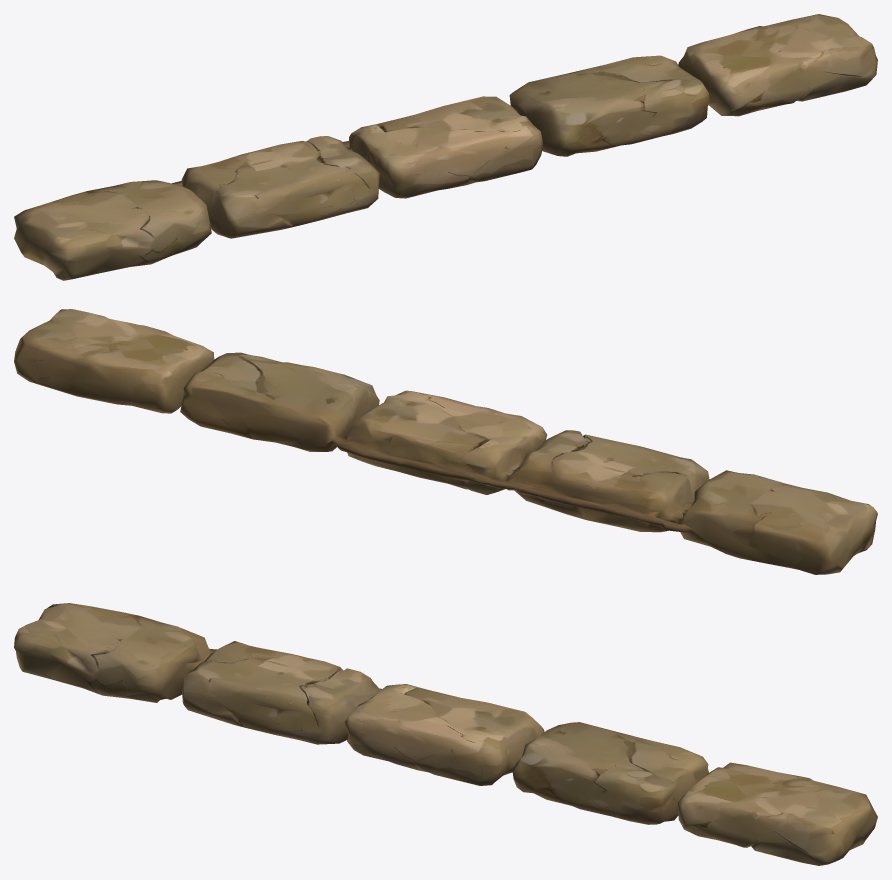
The model's file is tripo_stone_road_curb.glb.
The picture shows the model from 3 angles, top to bottom: view 1: azimuth 30°, elevation 25°; view 2: azimuth 150°, elevation 25°; view 3: azimuth 330°, elevation 25°; orthographic projection.
Visible parts, largest first — view 1: stone_road_curb; view 2: stone_road_curb; view 3: stone_road_curb.
Boxes of the visible parts, x1,y1,x2,y2 form: stone_road_curb: [14, 14, 877, 280]; stone_road_curb: [14, 309, 877, 574]; stone_road_curb: [14, 603, 877, 865].
Bounding box in the file's own units: 4 × 0.22 × 0.5.
1 material, 1 textured.
